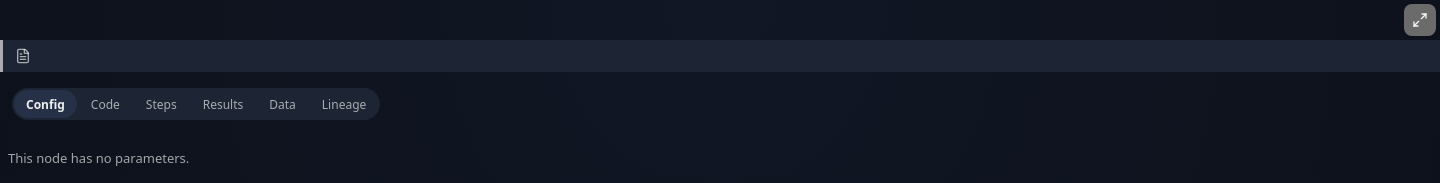
Test: Results tab shows the error string when the node errored
The image size is (1440, 183).
Click the button with test id "inspector-tab-results".
click(223, 104)  # box [191,90,255,118]
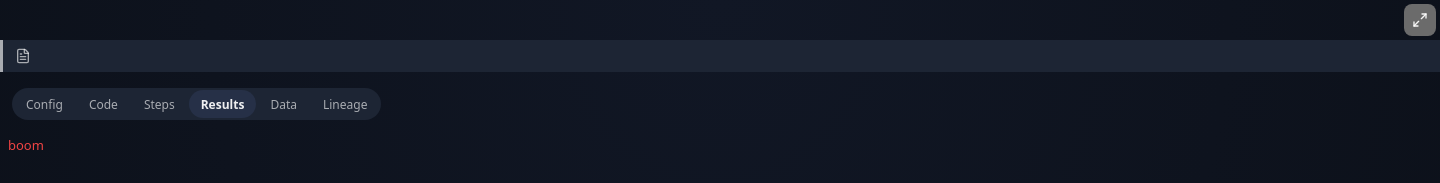
Result: the text with test id "results-error" reads "boom" at [8,136,44,154]
